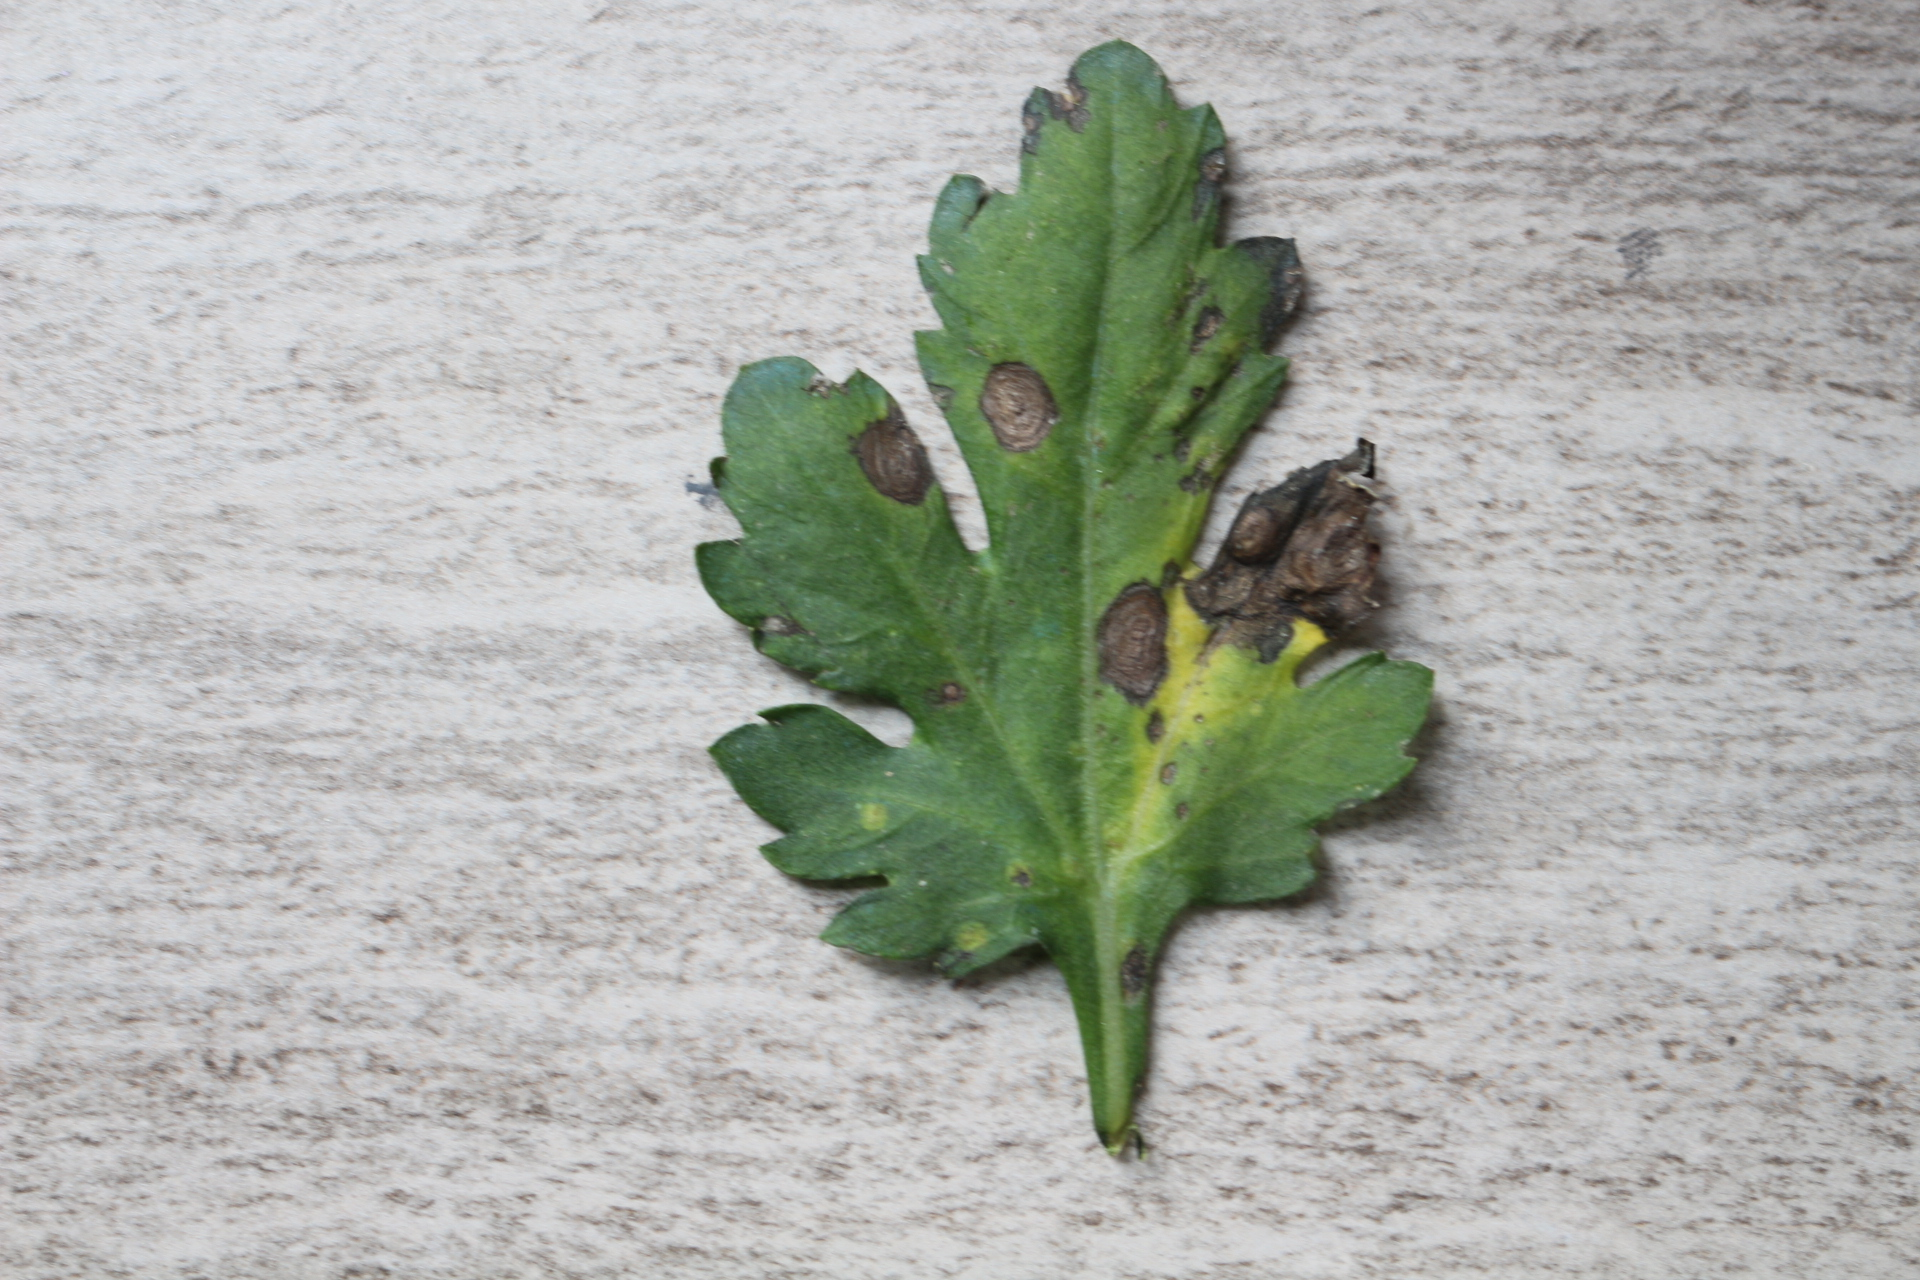namden: (1093, 583, 1174, 706), (974, 361, 1066, 459), (851, 410, 941, 504)
namsung: (854, 794, 893, 841), (947, 917, 993, 953)
